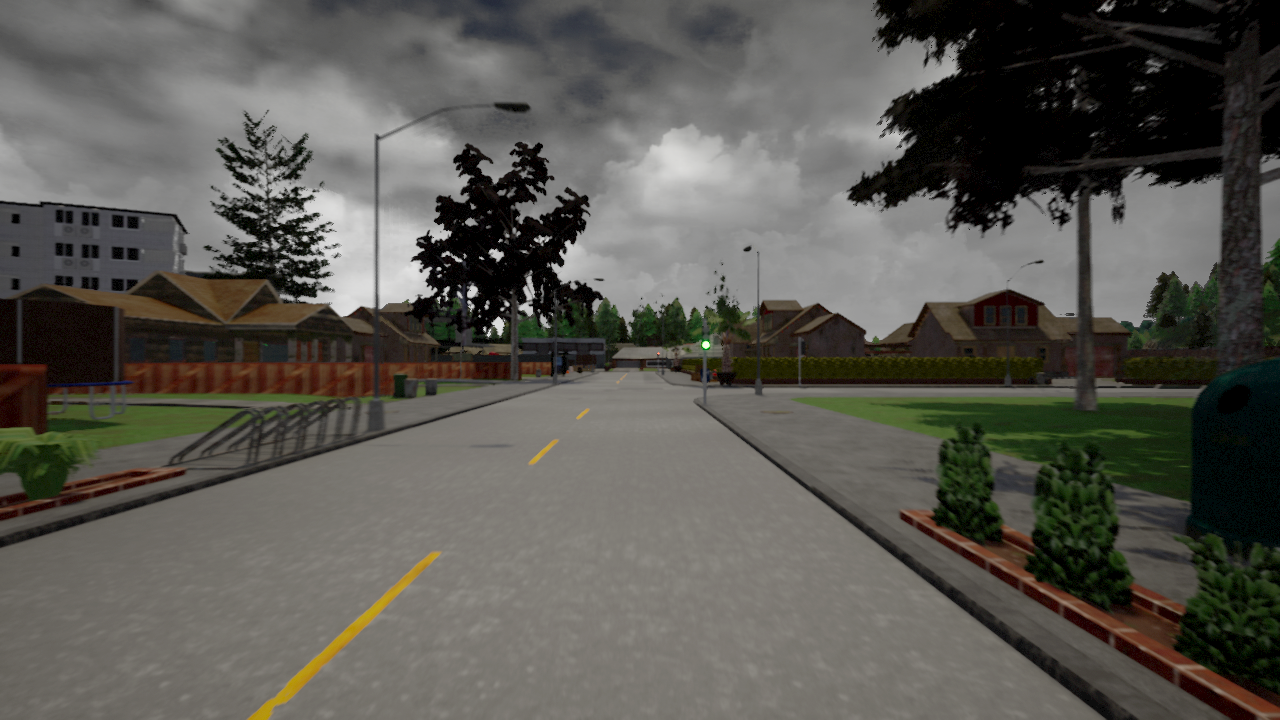green: (700, 324, 710, 351)
